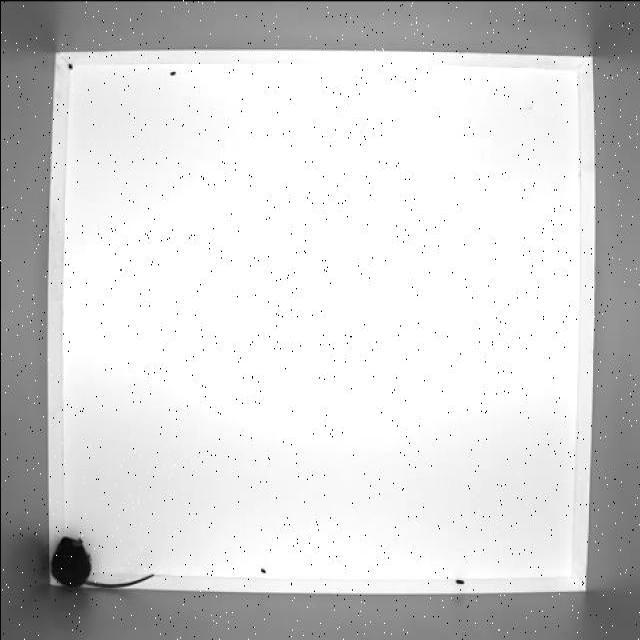rat: (46, 527, 164, 597)
